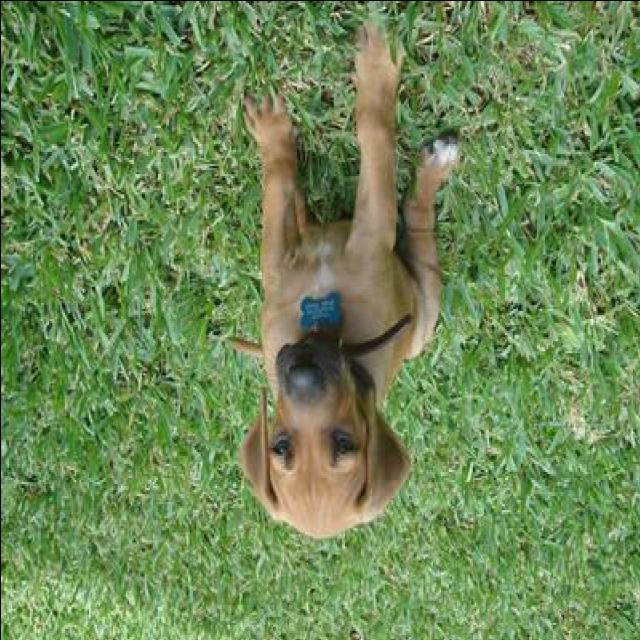rhodesian_ridgeback: (230, 9, 462, 542)
